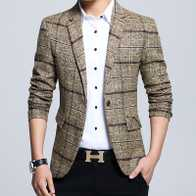F_M_suit jacket: (27, 4, 171, 178)
F_belt: (74, 146, 115, 165)
